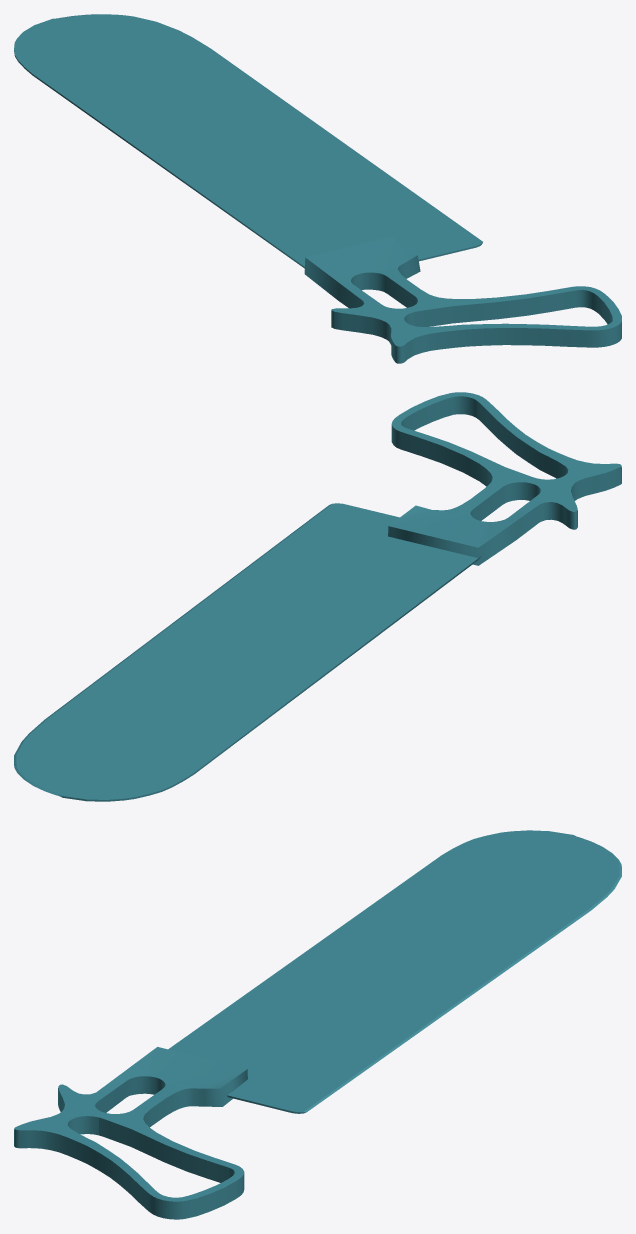
File: SM_Surgical_Saw_3.FBX
3 renders of one model, top to bottom at view 1: azimuth 30°, elevation 25°; view 2: azimuth 150°, elevation 25°; view 3: azimuth 330°, elevation 25°, orthographic. The views are drawn at different scales.
Parts seen in each view (by area): view 1: Surgical_Saw_3; view 2: Surgical_Saw_3; view 3: Surgical_Saw_3.
Part boxes in pixels (bbox=[...]): Surgical_Saw_3: bbox=[14, 14, 621, 363]; Surgical_Saw_3: bbox=[14, 392, 621, 801]; Surgical_Saw_3: bbox=[14, 830, 621, 1219].
Size of the model in its own units: 10.45 by 0.8807 by 38.81.
